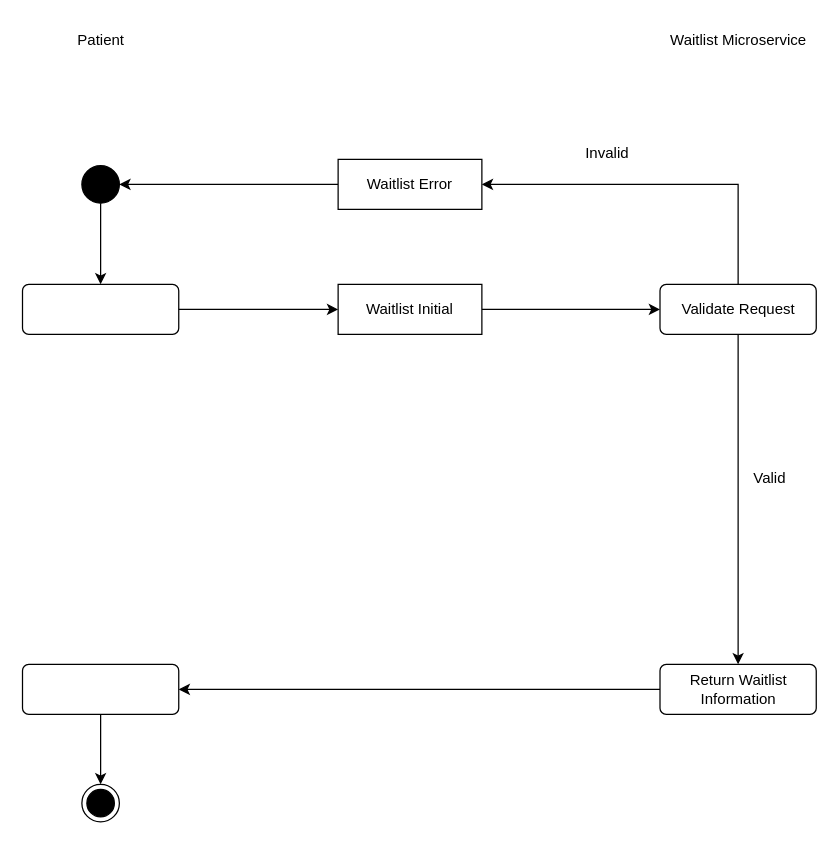
This 840x844 diagram has some shape labels left out. The centre of each missing label's shape, as x and y in pixels:
"Request to view Waitlist" goes at (100,308).
"Show Patient Waitlist Information" goes at (100,688).
